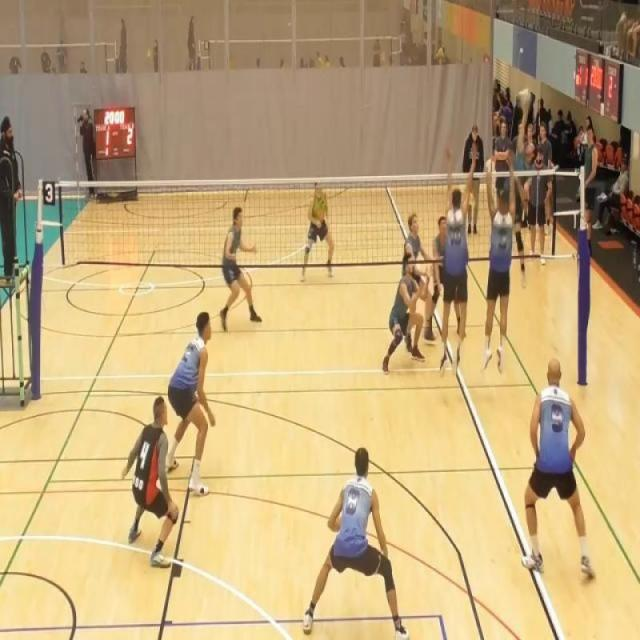volleyball: (516, 88, 531, 105)
